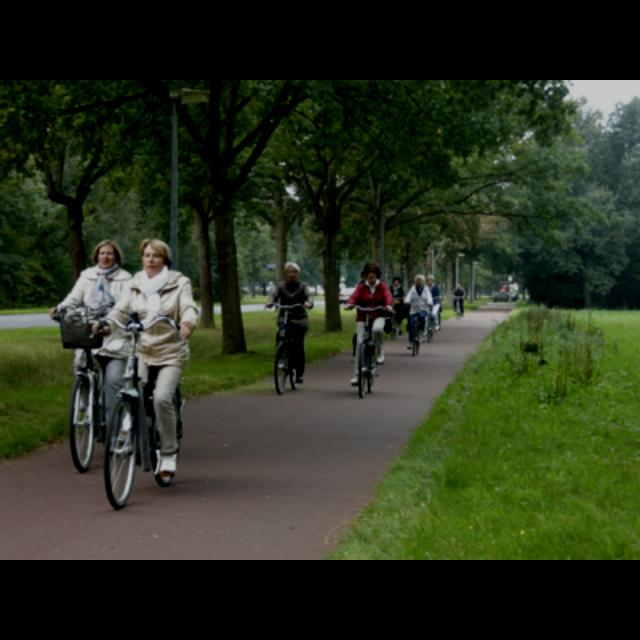Without Helmet: (138, 237, 170, 280), (360, 261, 380, 283)
